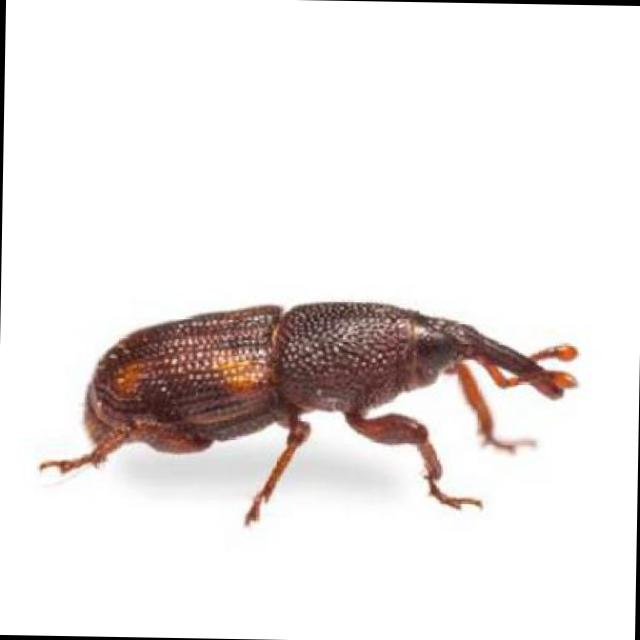rice-bug: (66, 292, 549, 503)
